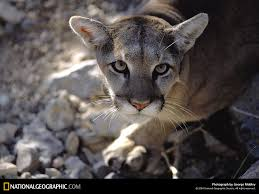Mountain Lion: (68, 10, 231, 161)
